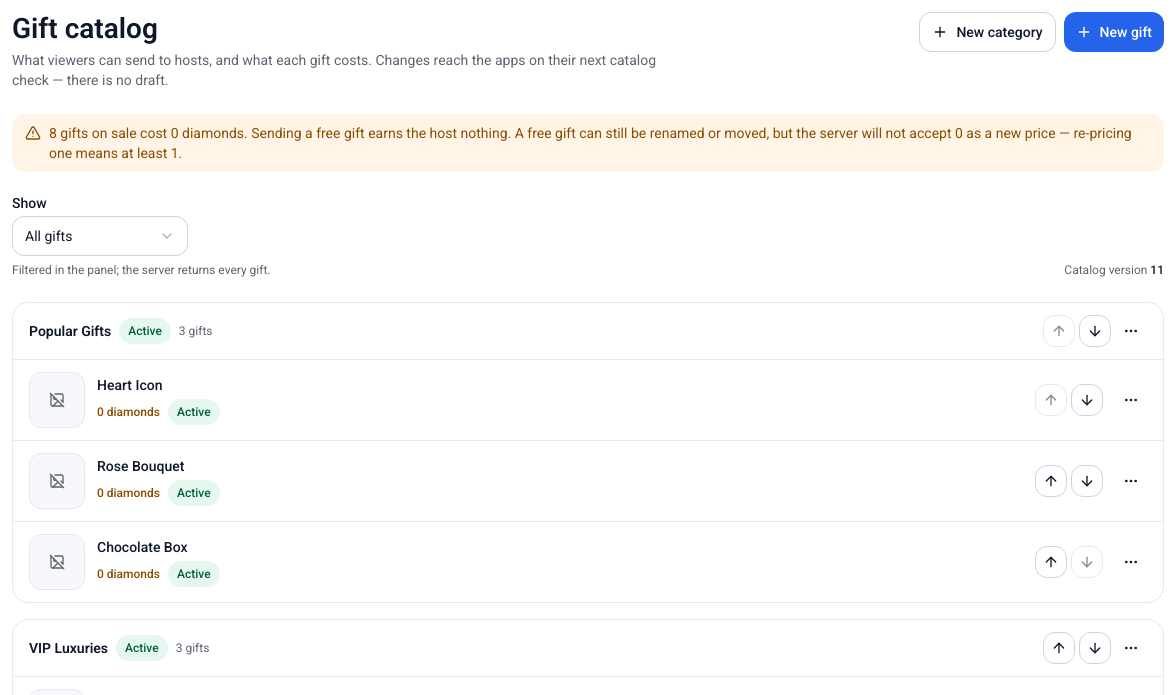
Test: the active filter is client-side › withdraws reordering while filtered
expect the button named "Move VIP Luxuries up" is shown: met, box [1043,632,1075,664]
Click the dropdown named "Show". click: (100, 236)
box: [12,216,188,256]
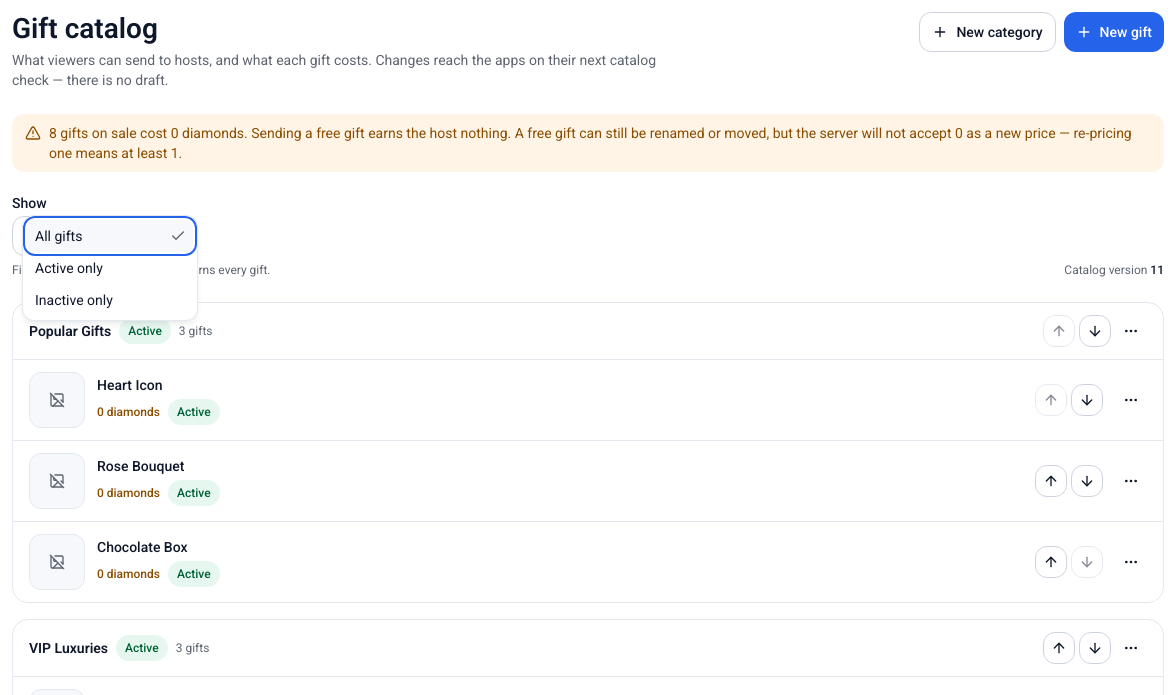
Click the option "Active only". click: (69, 268)
box: [35,260,103,276]
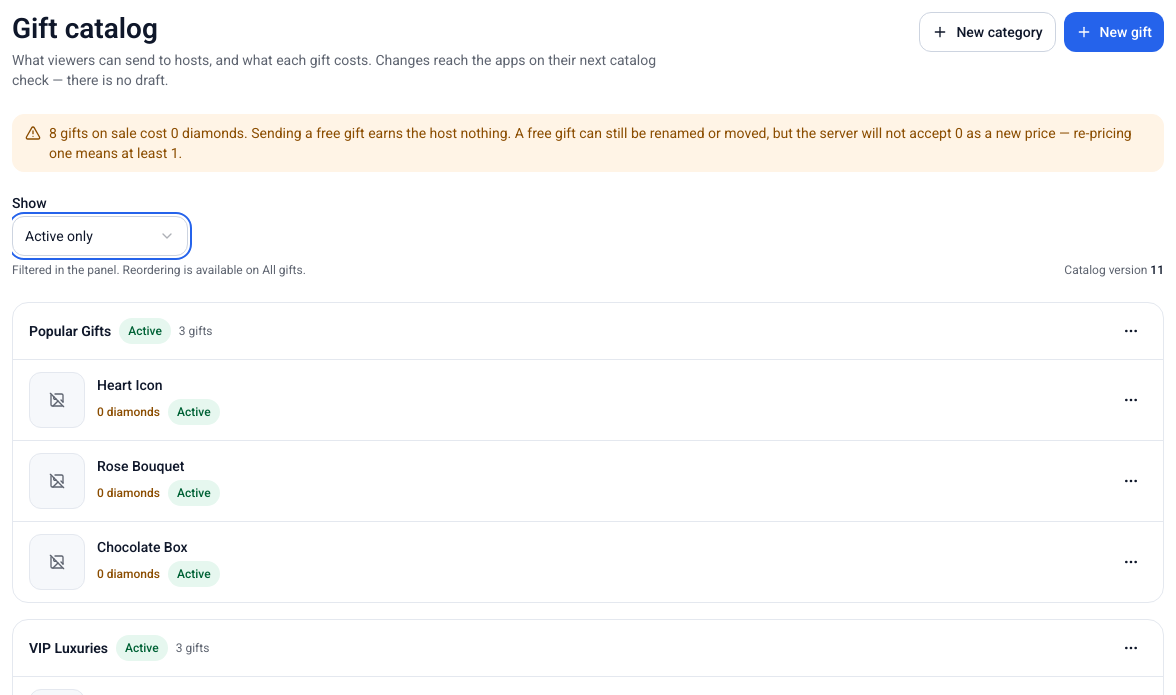
expect the text "Filtered in the panel. Reordering is available on All gifts." is shown: met, box [12,262,306,278]
